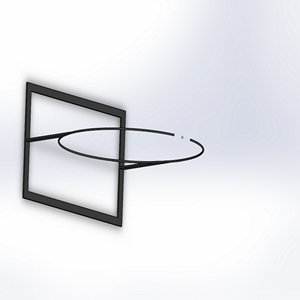circle: (21, 80, 206, 228)
